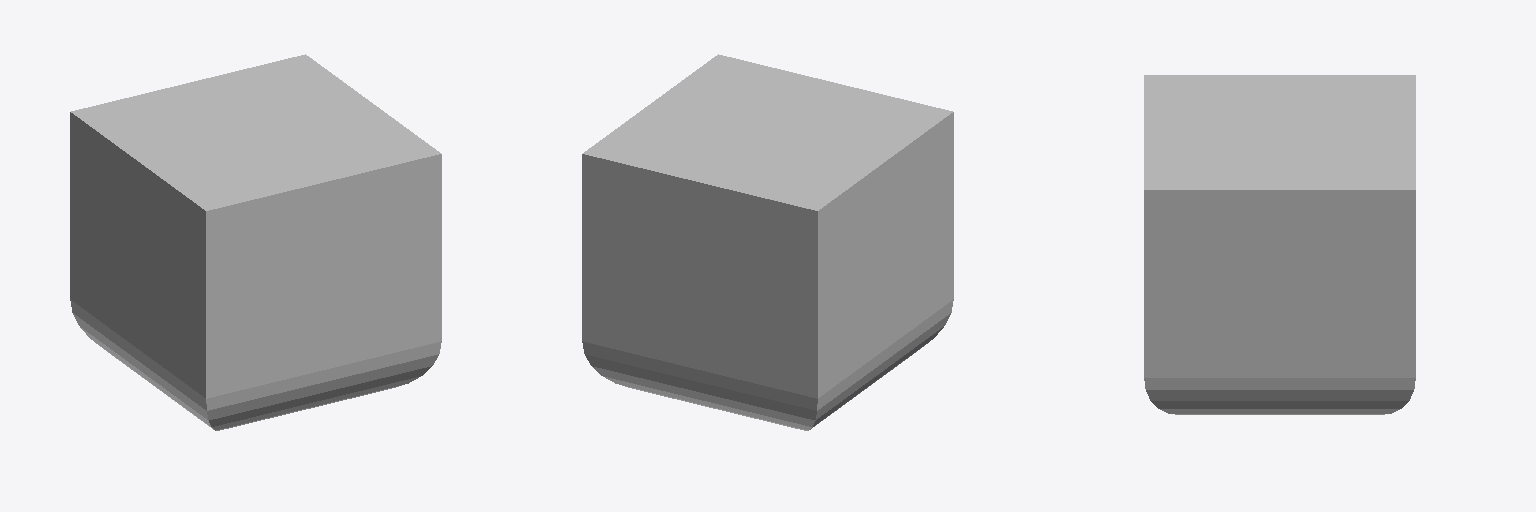
Rendered from nian-bean.obj.
The picture shows the model from 3 angles: view 1: azimuth 30°, elevation 25°; view 2: azimuth 150°, elevation 25°; view 3: azimuth 270°, elevation 25°; orthographic projection.
Visible parts, largest first — view 1: Cubo; view 2: Cubo; view 3: Cubo.
Boxes of the visible parts, box(x1,y1,x2,y2) form: Cubo: box(70, 54, 441, 430); Cubo: box(582, 54, 953, 430); Cubo: box(1144, 75, 1415, 414).
Bounding box in the file's own units: 26.49 × 26.49 × 26.49.